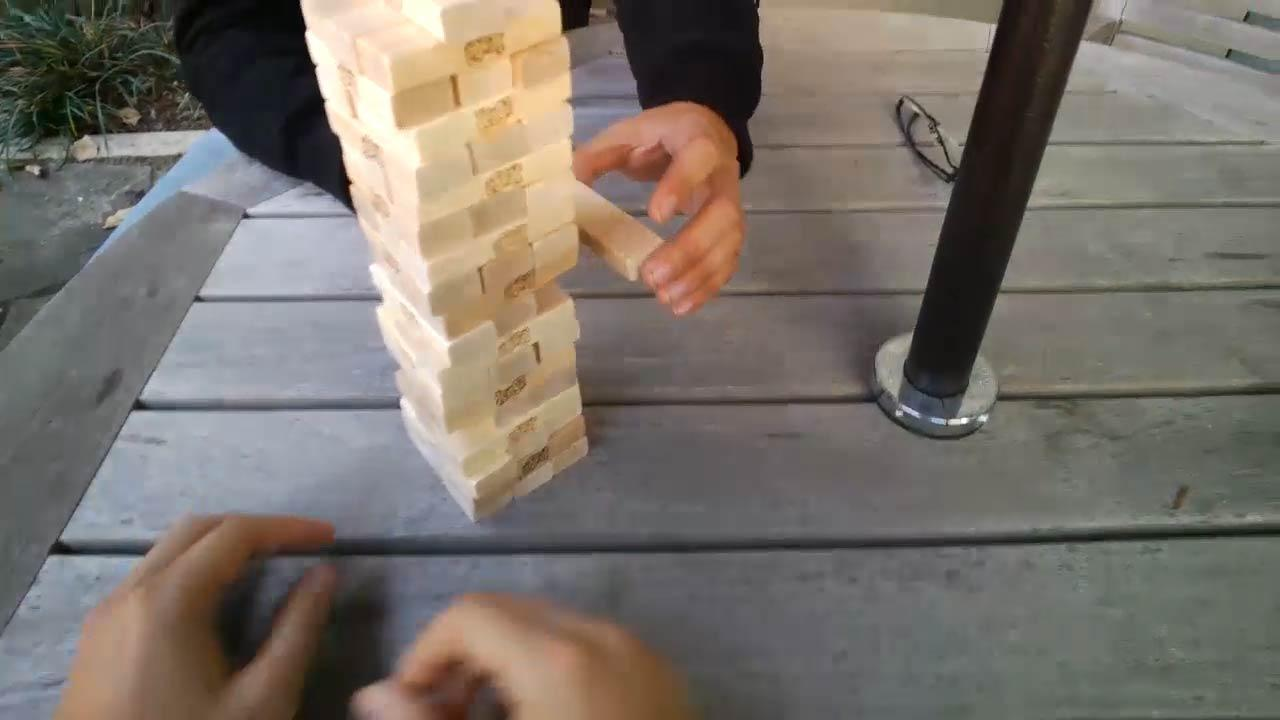hand: (62, 504, 340, 720), (350, 585, 707, 720), (572, 102, 748, 322)
